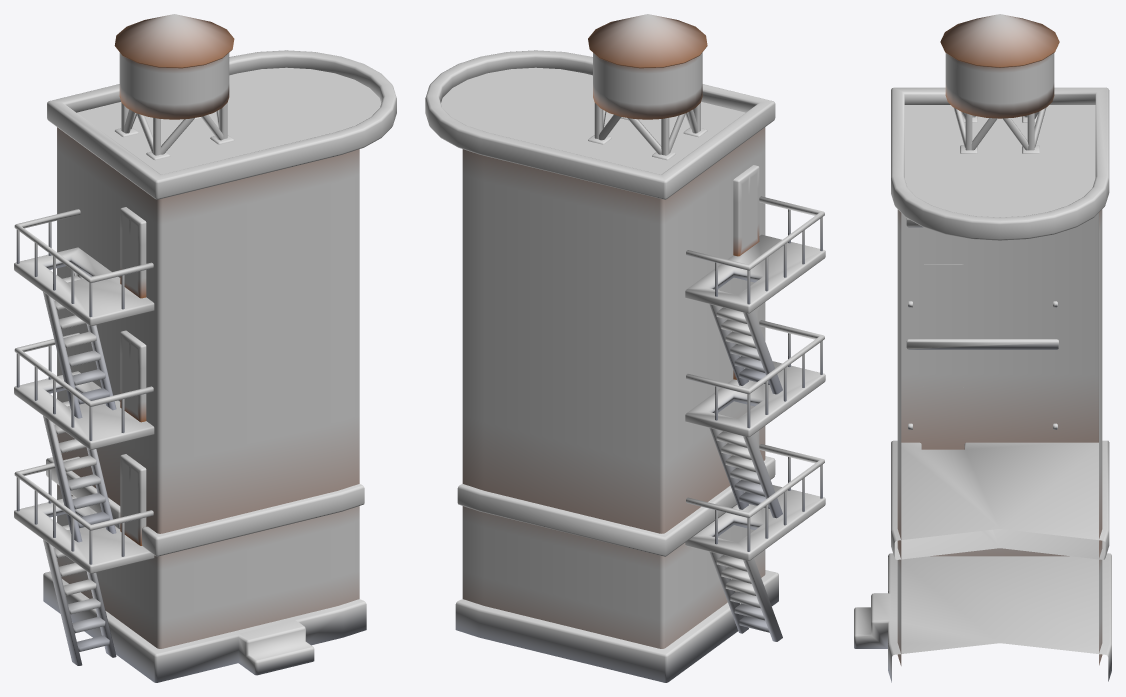
The model's file is Building_095.fbx.
3 renders of one model, left to right at view 1: azimuth 30°, elevation 25°; view 2: azimuth 150°, elevation 25°; view 3: azimuth 270°, elevation 25°, orthographic.
Visible parts, largest first — view 1: Building_095; view 2: Building_095; view 3: Building_095.
Boxes of the visible parts, <box> form: Building_095: <box>14,14,396,682</box>; Building_095: <box>425,14,825,682</box>; Building_095: <box>854,14,1111,682</box>.
Size of the model in its own units: 1135 by 1950 by 756.
